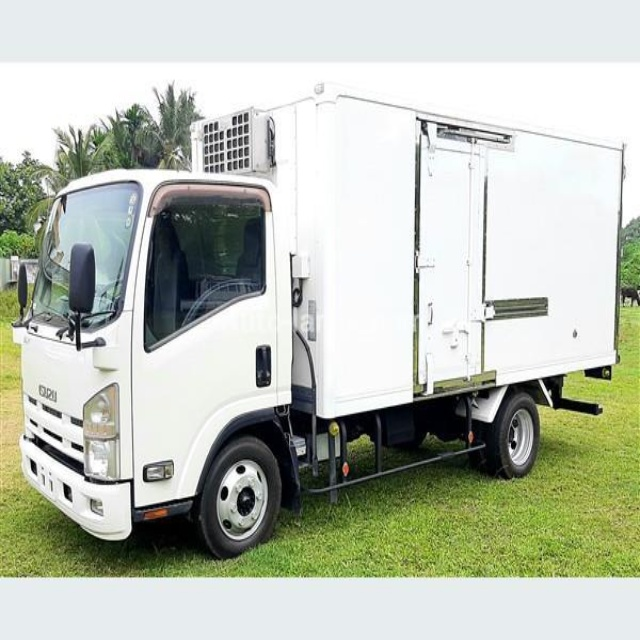Truck: (12, 80, 623, 560)
